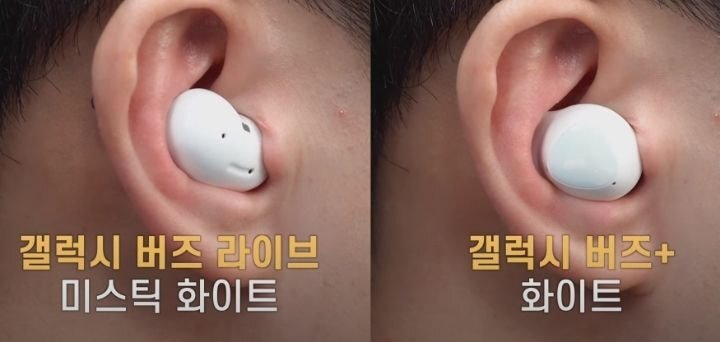earphone: (455, 1, 660, 295), (92, 1, 283, 290)
